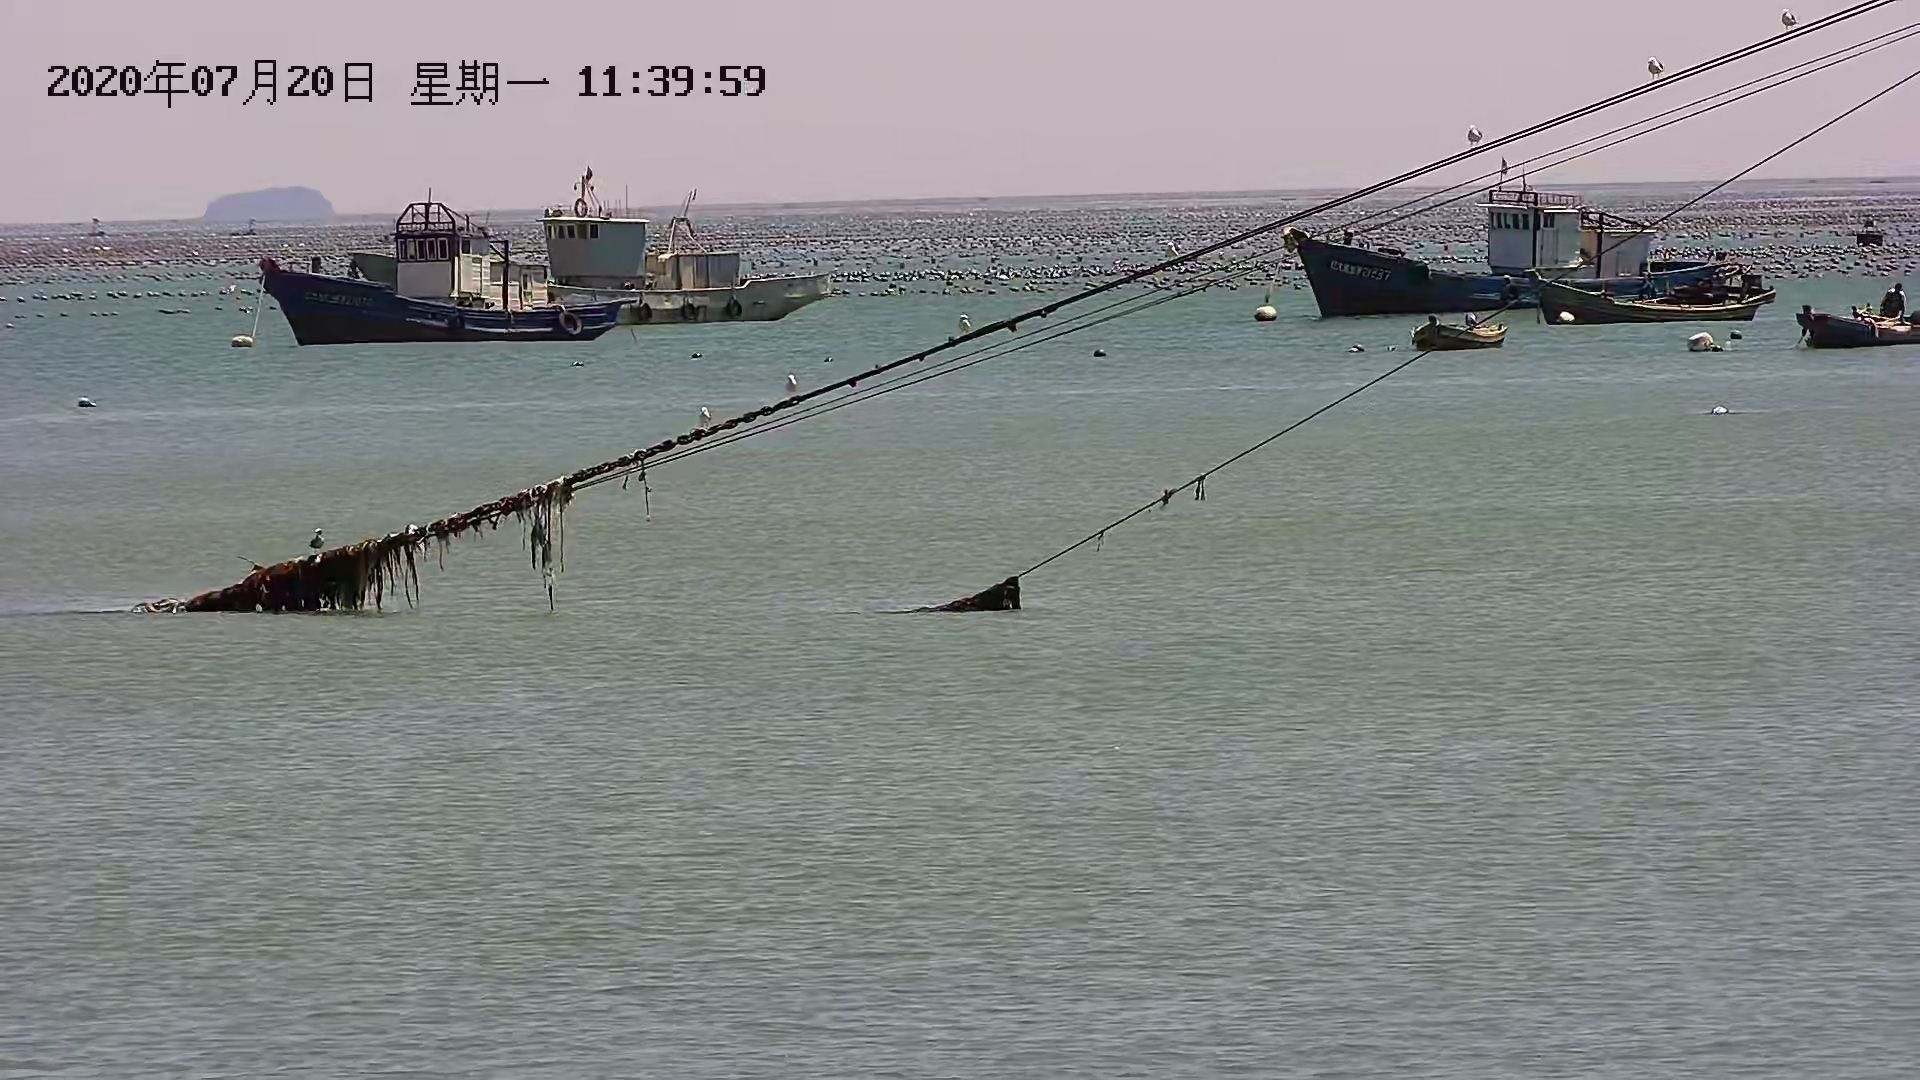boat: (1519, 270, 1767, 330), (1785, 301, 1920, 346), (1405, 311, 1518, 360)
person: (1876, 272, 1907, 339)
rock: (193, 182, 352, 237)
rubbish: (1680, 323, 1726, 365)
ship: (1269, 173, 1695, 308), (250, 207, 624, 348), (500, 191, 849, 335)
